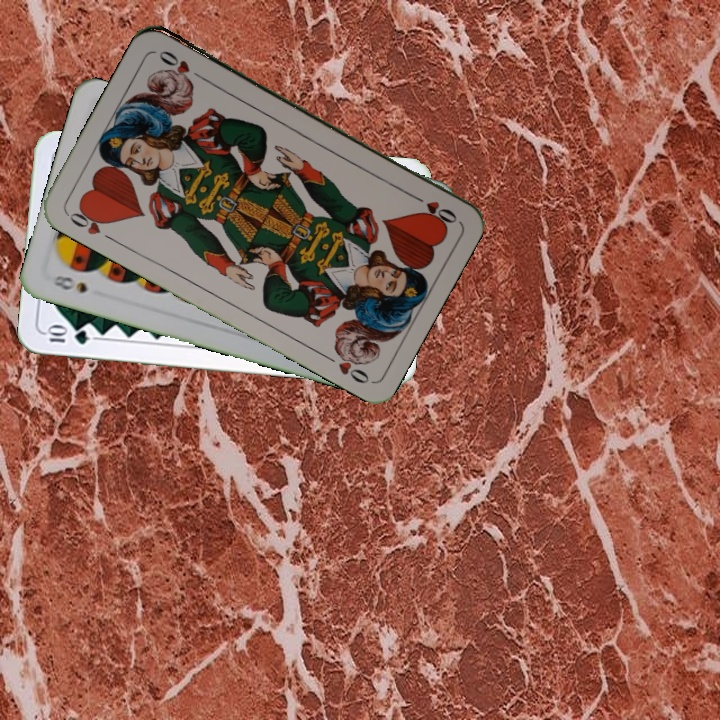G10: (42, 323, 92, 347)
HO: (63, 202, 118, 245), (406, 190, 460, 226)
S8: (49, 271, 90, 296)
